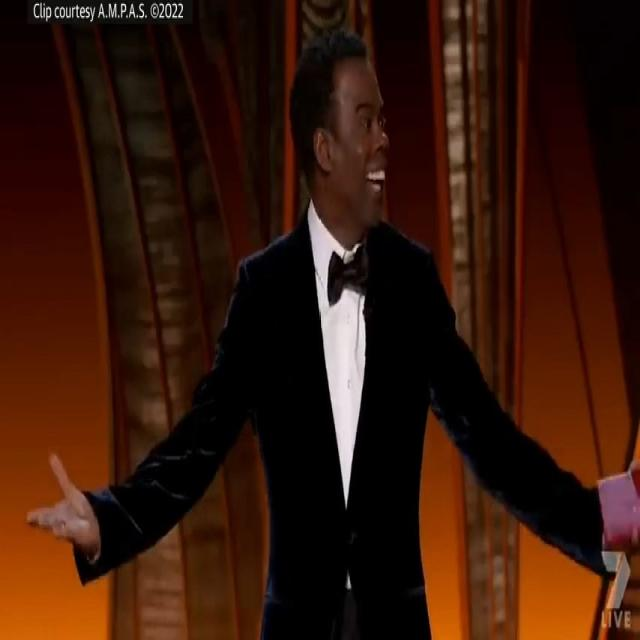non-fight: (23, 6, 635, 640)
